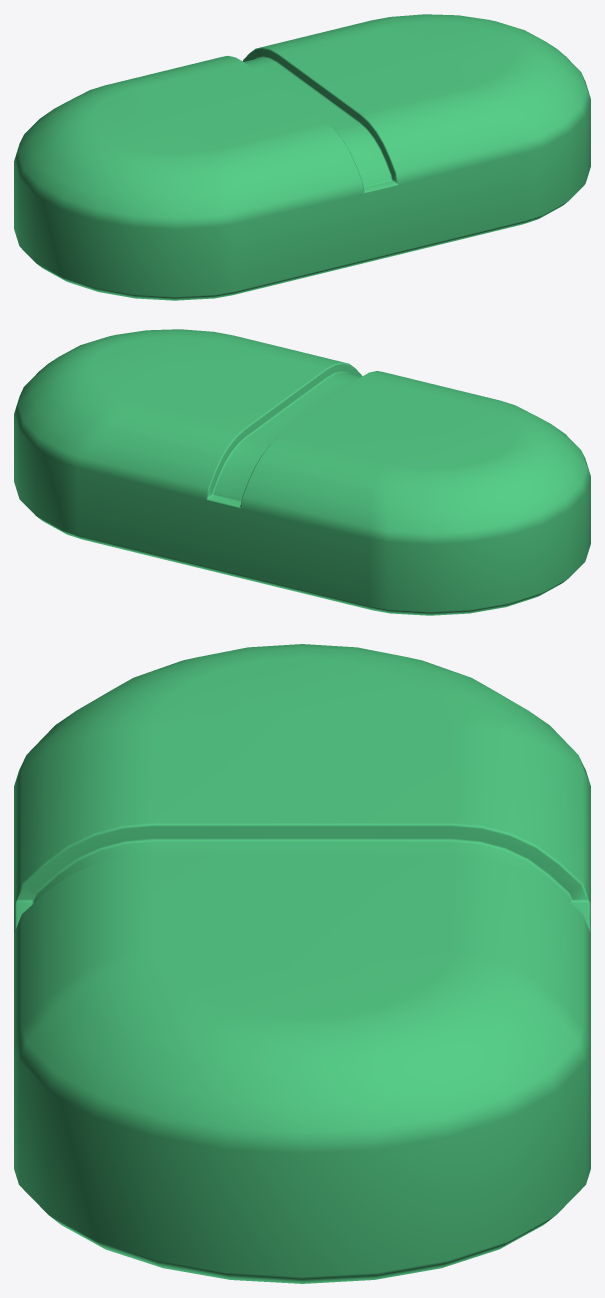
Rendered from Public_3_Pill_1.glb.
The picture shows the model from 3 angles, top to bottom: view 1: azimuth 30°, elevation 25°; view 2: azimuth 150°, elevation 25°; view 3: azimuth 270°, elevation 25°; orthographic projection. The views are drawn at different scales.
Parts seen in each view (by area): view 1: Public_3_Pill_1; view 2: Public_3_Pill_1; view 3: Public_3_Pill_1.
Boxes of the visible parts, x1,y1,x2,y2 form: Public_3_Pill_1: [14, 14, 590, 300]; Public_3_Pill_1: [14, 329, 590, 615]; Public_3_Pill_1: [14, 644, 590, 1283].
Bounding box in the file's own units: 2.03 × 0.4265 × 1.04.
1 material, 1 textured.
